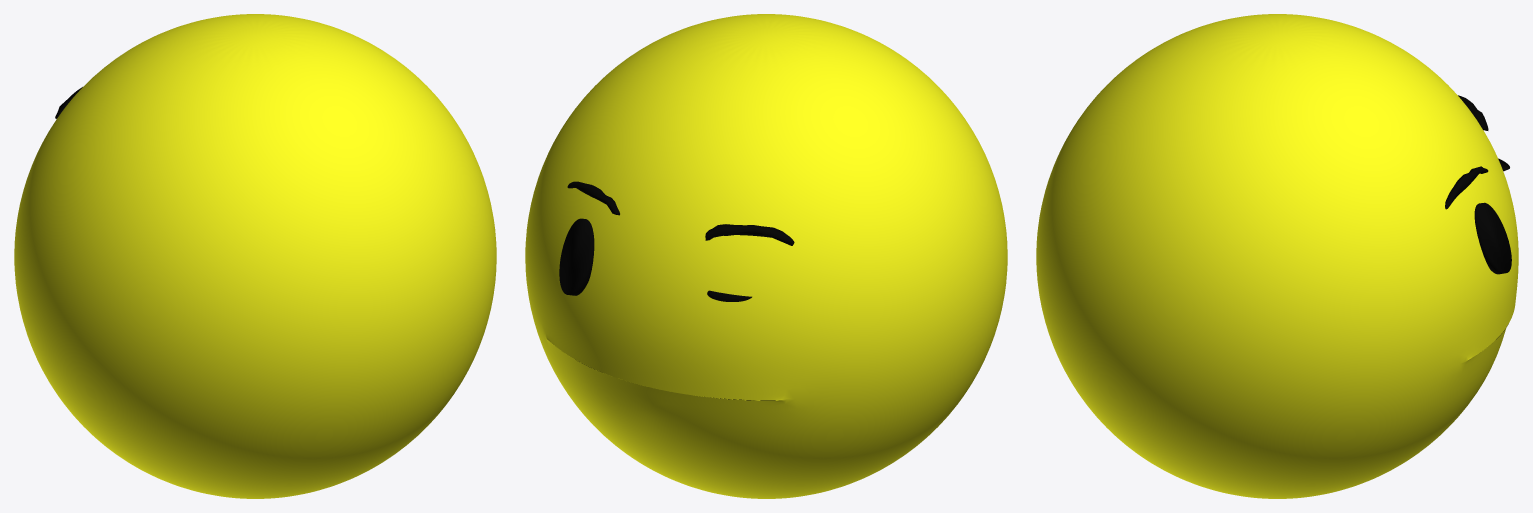
The model's file is [7] rightBlink.obj.
3 renders of one model, left to right at view 1: azimuth 30°, elevation 25°; view 2: azimuth 150°, elevation 25°; view 3: azimuth 270°, elevation 25°, orthographic.
Parts seen in each view (by area): view 1: head_Sphere.002; view 2: head_Sphere.002, leftEye_Cylinder.002, rightEyebrow_Cylinder.005, leftEyebrow_Cylinder.003; view 3: head_Sphere.002, leftEye_Cylinder.002, leftEyebrow_Cylinder.003.
Part boxes in pixels (x1,y1,x2,y2): head_Sphere.002: (14,14,496,498); head_Sphere.002: (525,14,1007,498); leftEye_Cylinder.002: (559,218,594,295); rightEyebrow_Cylinder.005: (705,224,794,245); leftEyebrow_Cylinder.003: (567,181,619,215); head_Sphere.002: (1036,14,1518,498); leftEye_Cylinder.002: (1474,202,1511,274); leftEyebrow_Cylinder.003: (1445,166,1488,209).
Size of the model in its own units: 3.65 by 3.69 by 3.65.
